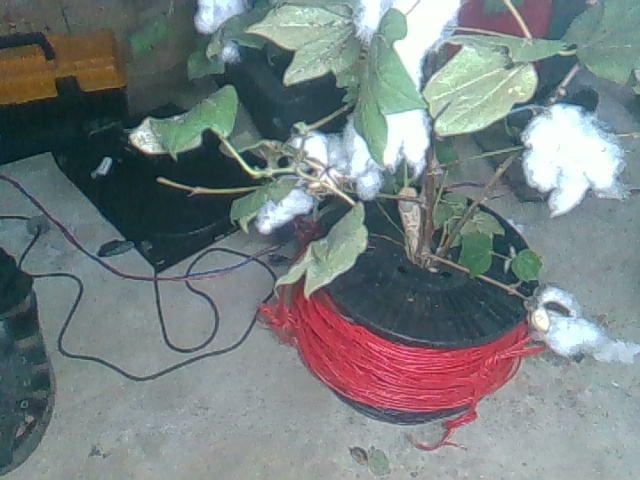cotton: (519, 103, 631, 219), (360, 1, 464, 93), (522, 284, 604, 360), (326, 114, 388, 201), (281, 125, 340, 193), (382, 99, 434, 176), (253, 186, 316, 237), (191, 1, 248, 35), (214, 38, 243, 65)
